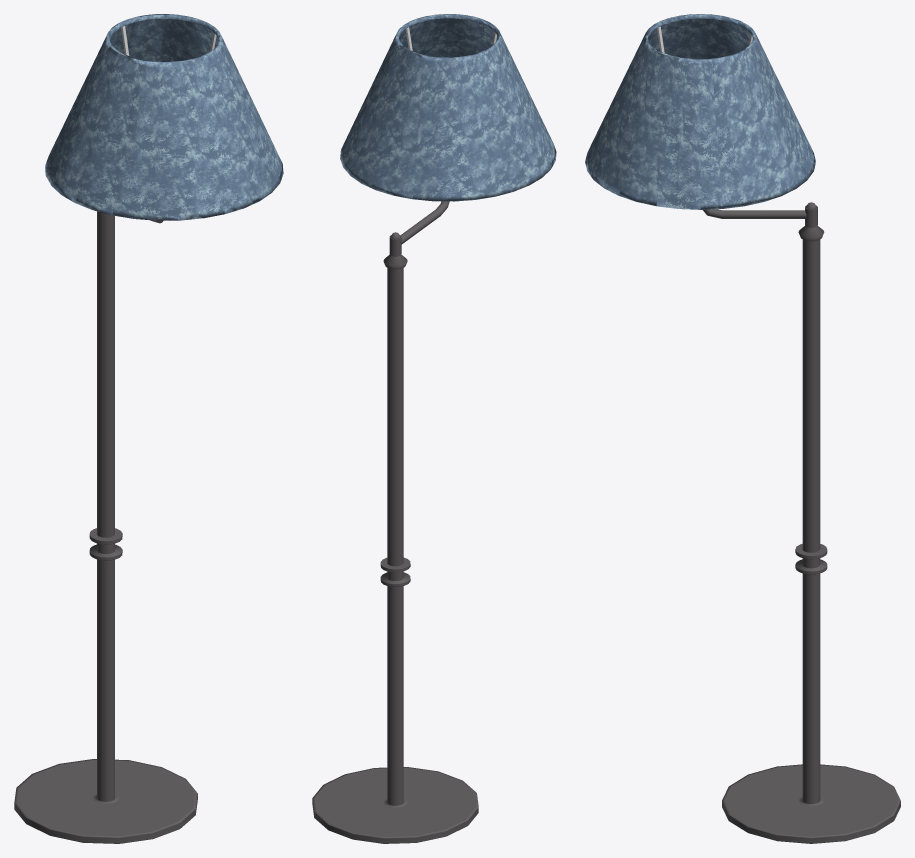
Rendered from lampara.glb.
3 renders of one model, left to right at view 1: azimuth 30°, elevation 25°; view 2: azimuth 150°, elevation 25°; view 3: azimuth 270°, elevation 25°, orthographic. The views are drawn at different scales.
Visible parts, largest first — view 1: lampara; view 2: lampara; view 3: lampara.
Part boxes in pixels (<box>): lampara: <box>14,14,283,843</box>; lampara: <box>312,14,556,843</box>; lampara: <box>585,14,900,843</box>.
Bounding box in the file's own units: 40 × 150 × 55.79.
Materials: 4 (1 with a texture image).
